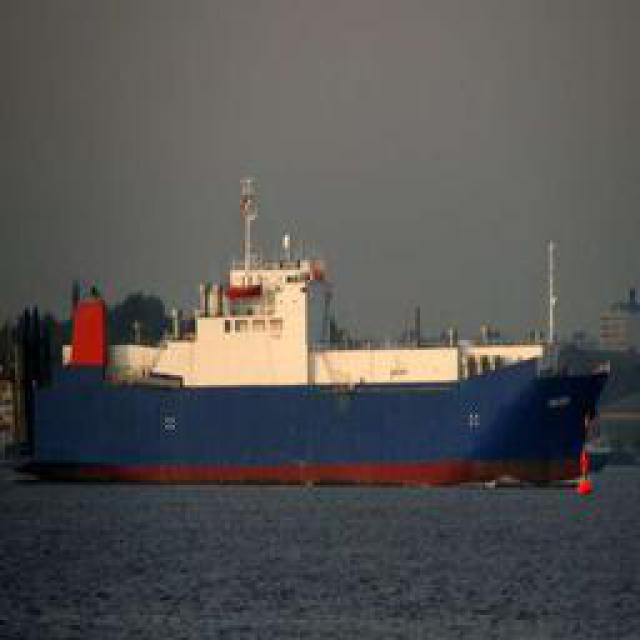Ship: (20, 193, 613, 481)
